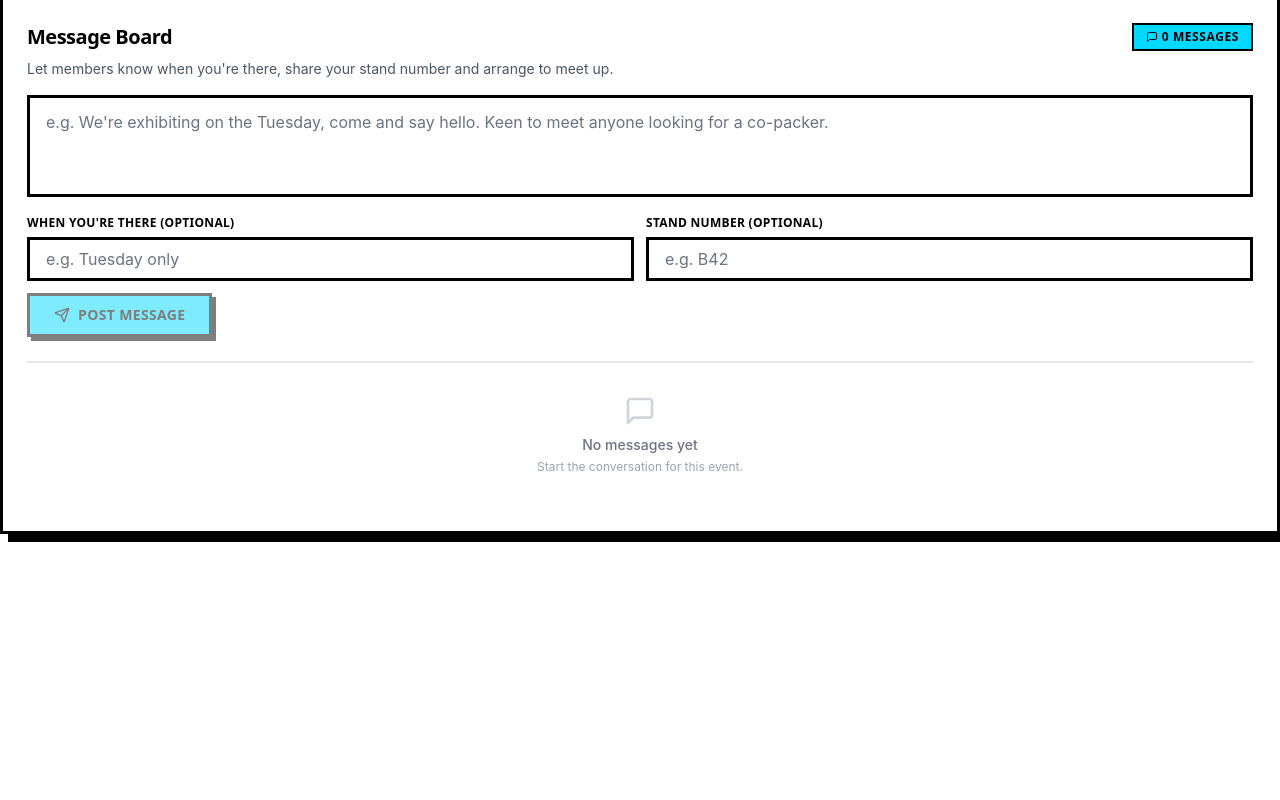
Scenario: EventMessageBoard › shows API errors
This screenshot has width=1280, height=800.
Replace the text in the text box with placeholder "exhibiting on the Tuesday" with "x" at (640, 146), box [27,95,1253,197]
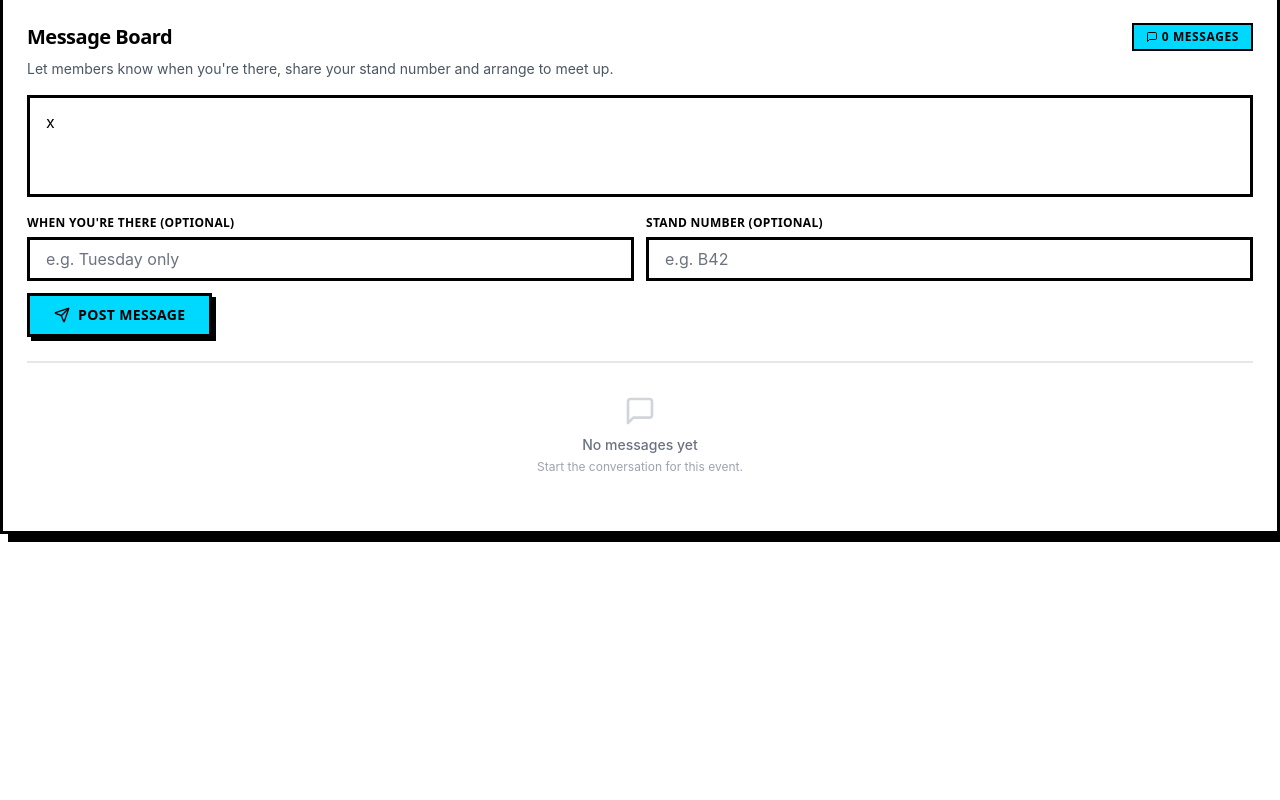
Click the button "Post Message".
click(120, 315)  # box [27,293,212,337]
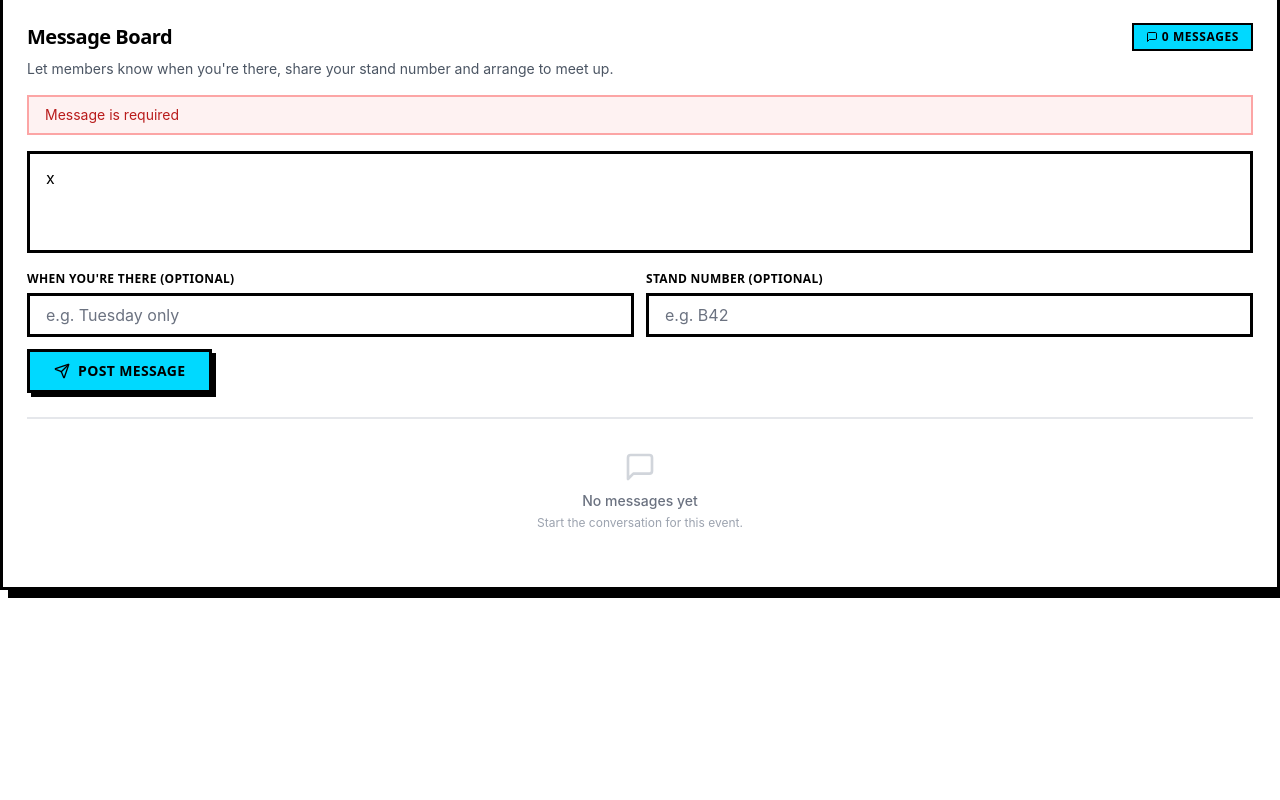
Expected: the text "Message is required" is shown, [27,95,1253,135]
